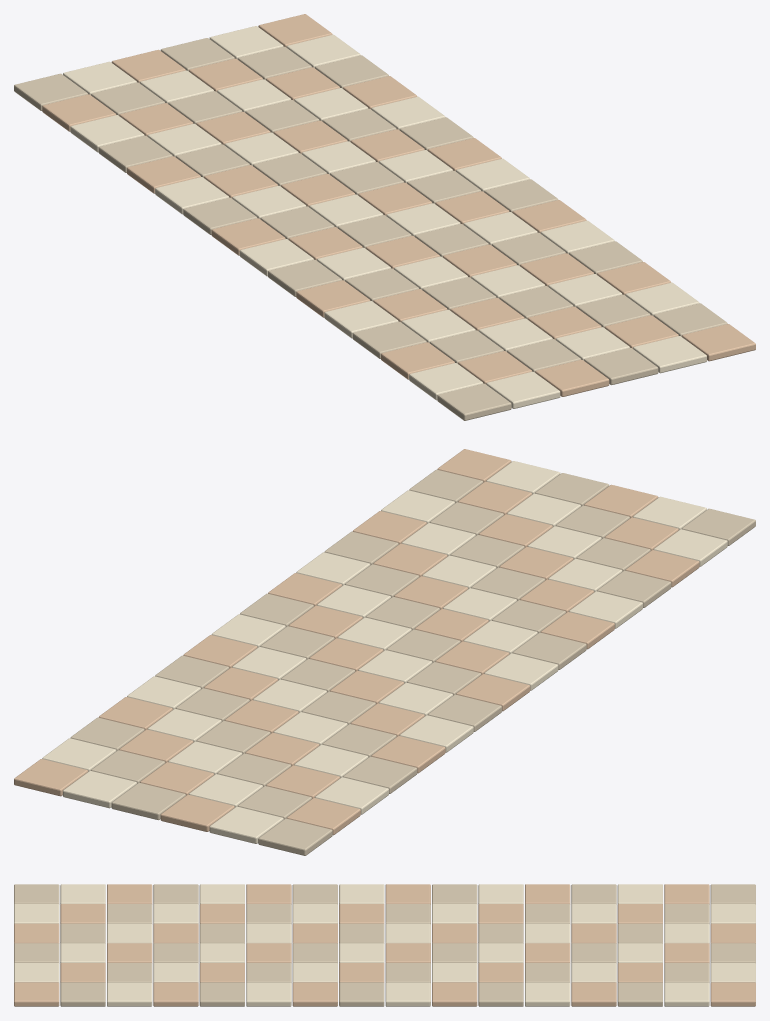
File: path.glb
3 views of the same model, one above another, from view 1: azimuth 30°, elevation 25°; view 2: azimuth 150°, elevation 25°; view 3: azimuth 270°, elevation 25° (orthographic). The views are drawn at different scales.
Parts seen in each view (by area): view 1: walkway_paver, walkway_paver.001, walkway_paver.002, walkway_paver.003, walkway_paver.005, walkway_paver.004, walkway_paver.030, walkway_paver.054, walkway_paver.072, walkway_paver.084, walkway_paver.018, walkway_paver.024 (+84 smaller); view 2: walkway_paver.090, walkway_paver.091, walkway_paver.092, walkway_paver.093, walkway_paver.095, walkway_paver.094, walkway_paver.006, walkway_paver.018, walkway_paver.036, walkway_paver.060, walkway_paver.012, walkway_paver.066 (+84 smaller); view 3: walkway_paver.005, walkway_paver.017, walkway_paver.029, walkway_paver.041, walkway_paver.047, walkway_paver.053, walkway_paver.059, walkway_paver.071, walkway_paver.083, walkway_paver.095, walkway_paver.011, walkway_paver.035 (+84 smaller).
Boxes of the visible parts, box(x1,y1,x2,y2) form: walkway_paver: box(437, 383, 511, 420); walkway_paver.001: box(486, 371, 560, 408); walkway_paver.002: box(535, 359, 609, 396); walkway_paver.003: box(584, 347, 658, 385); walkway_paver.005: box(681, 324, 755, 361); walkway_paver.004: box(633, 336, 706, 373); walkway_paver.030: box(296, 280, 370, 317); walkway_paver.054: box(183, 197, 257, 234); walkway_paver.072: box(98, 135, 172, 172); walkway_paver.084: box(42, 94, 116, 131); walkway_paver.018: box(352, 321, 426, 358); walkway_paver.024: box(324, 301, 398, 338); walkway_paver.090: box(258, 818, 332, 855); walkway_paver.091: box(209, 806, 283, 843); walkway_paver.092: box(160, 794, 234, 831); walkway_paver.093: box(111, 782, 185, 820); walkway_paver.095: box(14, 759, 88, 796); walkway_paver.094: box(63, 771, 136, 808); walkway_paver.006: box(653, 529, 727, 566); walkway_paver.018: box(597, 570, 671, 607); walkway_paver.036: box(512, 632, 586, 669); walkway_paver.060: box(399, 715, 473, 752); walkway_paver.012: box(625, 550, 699, 587); walkway_paver.066: box(371, 736, 445, 773); walkway_paver.005: box(14, 982, 59, 1006); walkway_paver.017: box(107, 982, 152, 1006); walkway_paver.029: box(199, 982, 244, 1006); walkway_paver.041: box(292, 982, 337, 1006); walkway_paver.047: box(339, 982, 384, 1006); walkway_paver.053: box(385, 982, 430, 1006); walkway_paver.059: box(432, 982, 477, 1006); walkway_paver.071: box(525, 982, 570, 1006); walkway_paver.083: box(617, 982, 662, 1006); walkway_paver.095: box(710, 982, 755, 1006); walkway_paver.011: box(60, 982, 105, 1006); walkway_paver.035: box(246, 982, 291, 1006).
Size of the model in its own units: 2.99 by 0.07 by 7.99.
